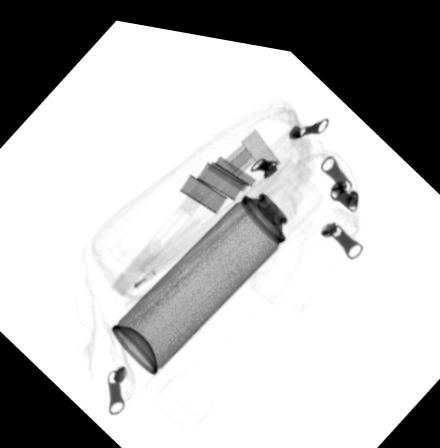Sprayer: (108, 146, 324, 372)
